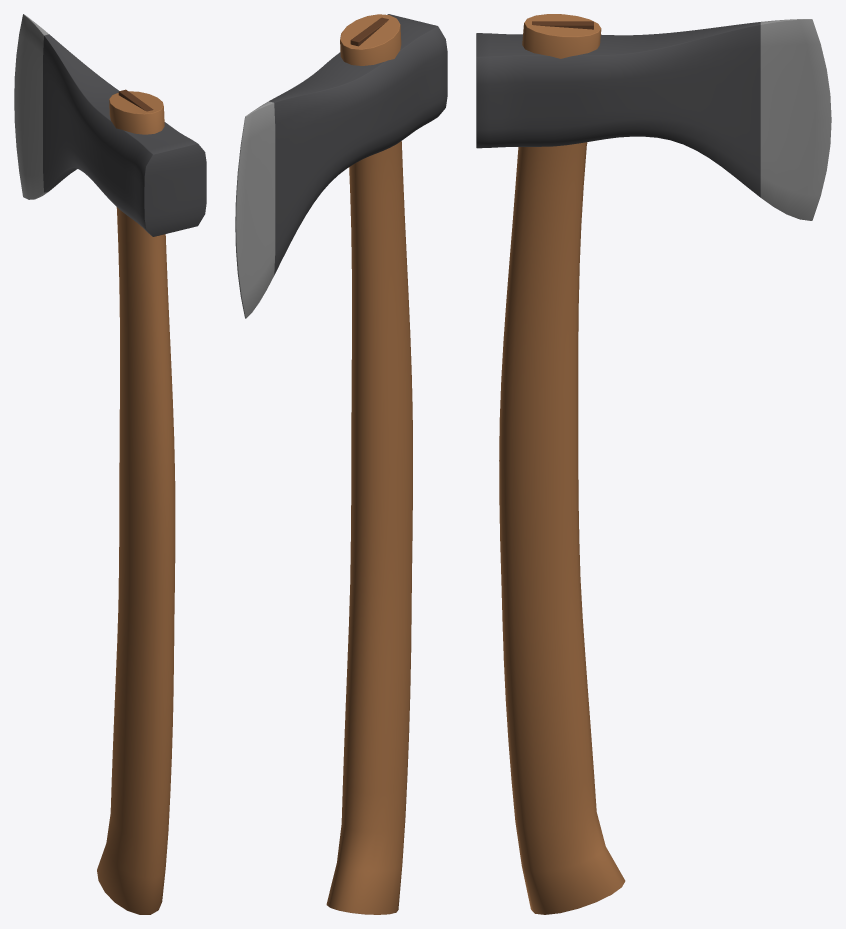
Rendered from hatchet.glb.
The picture shows the model from 3 angles, left to right: view 1: azimuth 30°, elevation 25°; view 2: azimuth 150°, elevation 25°; view 3: azimuth 270°, elevation 25°; orthographic projection. The views are drawn at different scales.
Visible parts, largest first — view 1: hatchet; view 2: hatchet; view 3: hatchet.
Boxes of the visible parts, x1,y1,x2,y2 form: hatchet: (14, 14, 206, 914); hatchet: (235, 14, 447, 914); hatchet: (476, 14, 831, 914).
Bounding box in the file's own units: 0.0332 × 0.4095 × 0.148.
